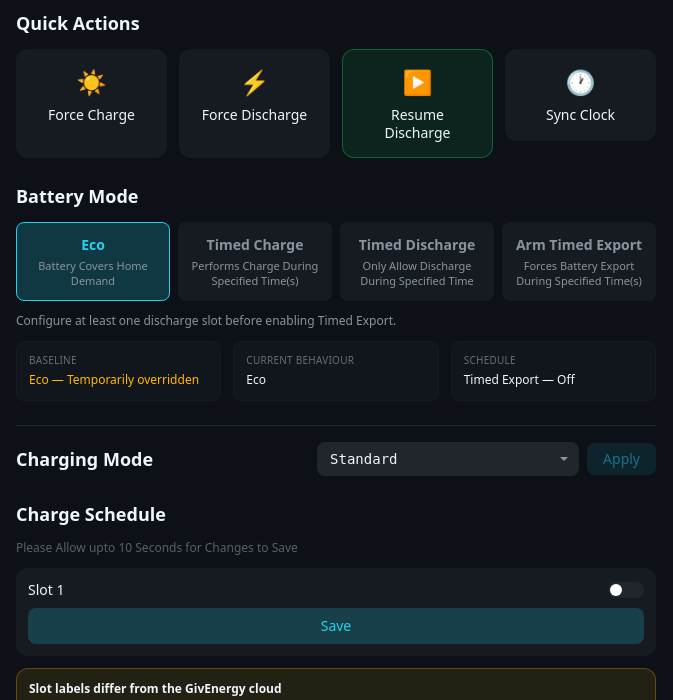
Scenario: <ControlPage/> — Timed Discharge device gating › reports when the inverter does not confirm Resume Discharge
Click the button "▶️ Resume Discharge".
click(418, 104)  # box [342,49,493,158]
Wait 30000 ms
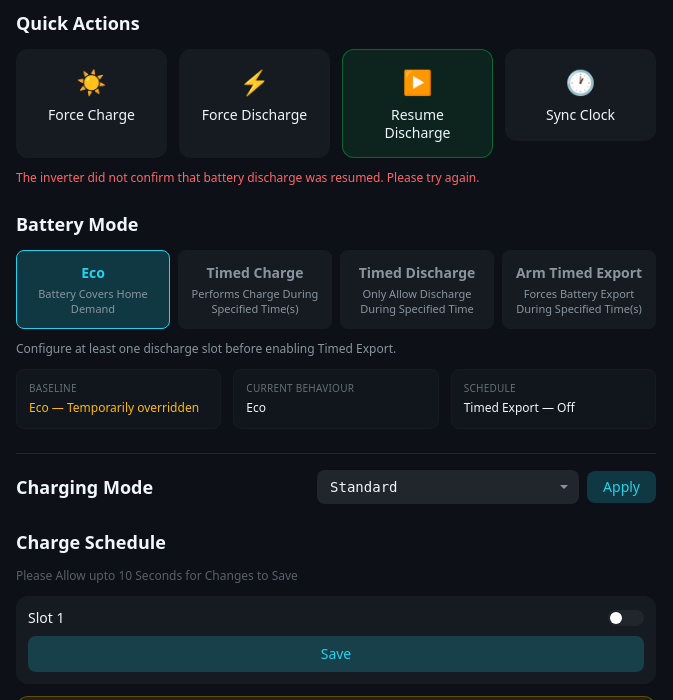
Now the 1st message shows "The inverter did not confirm that battery discharge was resumed. Please try again.", box [16,169,479,186]
